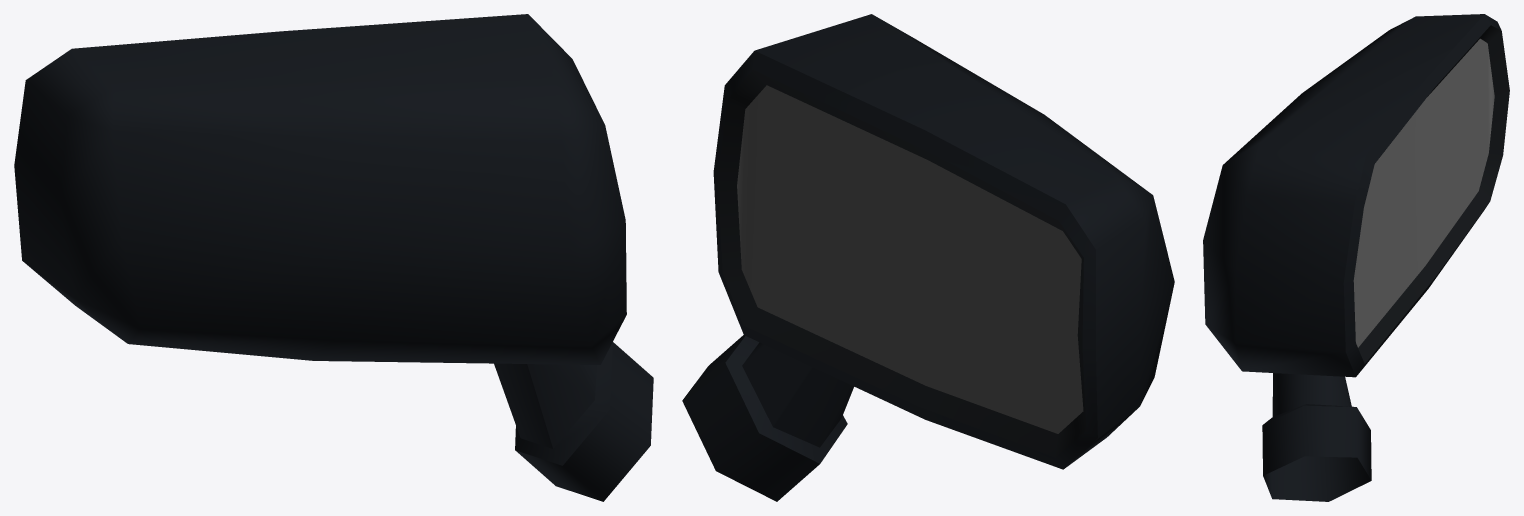
Rendered from Espejo.glb.
3 views of the same model, side by side, from view 1: azimuth 30°, elevation 25°; view 2: azimuth 150°, elevation 25°; view 3: azimuth 270°, elevation 25° (orthographic). The views are drawn at different scales.
Parts seen in each view (by area): view 1: polySurface17.3; view 2: polySurface17.3; view 3: polySurface17.3.
Part boxes in pixels (x1=…): polySurface17.3: x1=14, y1=14, x2=653, y2=501; polySurface17.3: x1=682, y1=14, x2=1174, y2=501; polySurface17.3: x1=1203, y1=14, x2=1509, y2=501.
Bounding box in the file's own units: 0.00186 × 0.00161 × 0.00128.
Materials: 3 (3 with a texture image).
